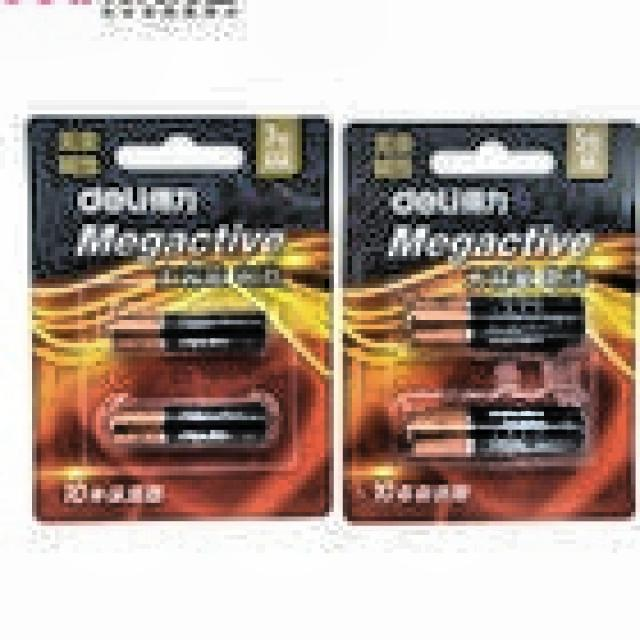Non-Valuable Waste - Batteries: (28, 115, 331, 520), (346, 123, 634, 520)
